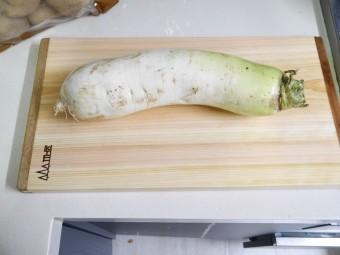radish: (28, 18, 163, 49)
